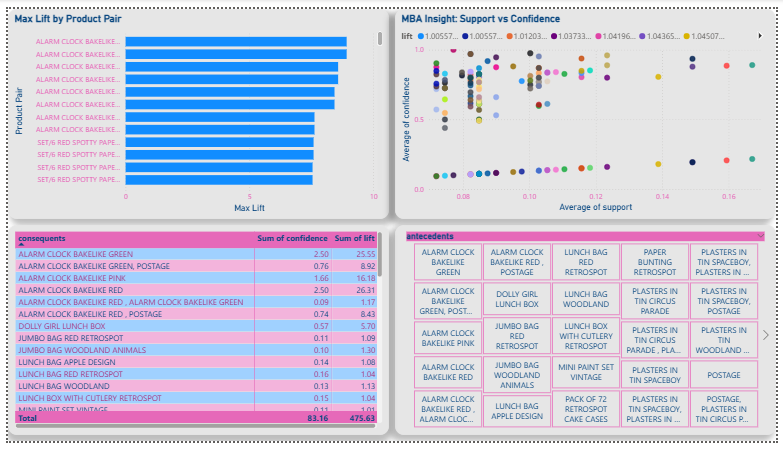

Layout of this report page (visuals, bound fields, positions):
{"tool":"powerbi","page":{"name":"Product Affinity (Market Basket)","canvas":[1280,720],"ordinal":2},"visuals":[{"type":"clusteredBarChart","fields":{"Y":["_Measures.Max Lift"],"Category":["public mba_analysis_results.Product Pair"]},"box":[0,0,635,350],"z":0},{"type":"scatterChart","title":"MBA Insight: Support vs Confidence","fields":{"Category":["public mba_analysis_results.Product Pair"],"X":["Avg(public mba_analysis_results.support)"],"Y":["Avg(public mba_analysis_results.confidence)"],"Series":["public mba_analysis_results.lift"]},"box":[645.5,0,634.5,349.7],"z":1000},{"type":"slicer","fields":{"Values":["public mba_analysis_results.antecedents"]},"box":[645,360,634.9,350],"z":2000},{"type":"tableEx","fields":{"Values":["public mba_analysis_results.consequents","Sum(public mba_analysis_results.confidence)","Sum(public mba_analysis_results.lift)"]},"box":[0,360,635,350],"z":3000}]}

Visuals, with their boxes in screenshot pixels (x1, y1, x2, y2), scaled from the page's 1280x720 canvas onto the 783x449 screenshot:
clusteredBarChart - _Measures.Max Lift x public mba_analysis_results.Product Pair: (0, 0, 388, 218)
"MBA Insight: Support vs Confidence" scatterChart: (395, 0, 782, 218)
slicer - public mba_analysis_results.antecedents: (395, 224, 782, 443)
tableEx - public mba_analysis_results.consequents x Sum(public mba_analysis_results.confidence): (0, 224, 388, 443)
